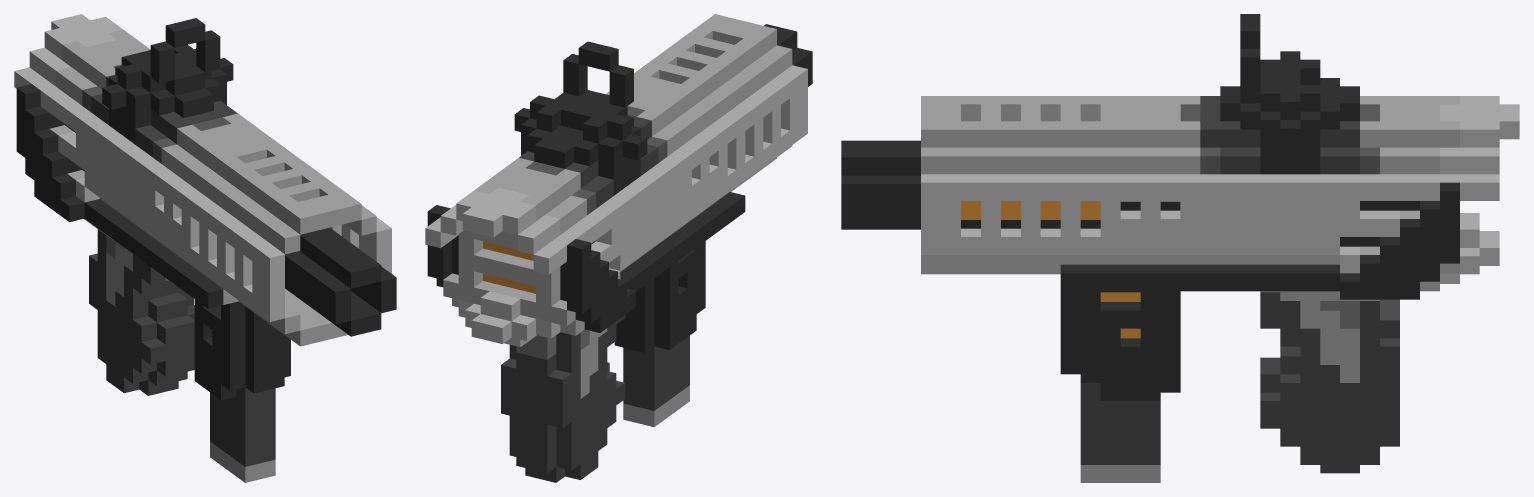
File: Pistol.obj
3 views of the same model, side by side, from view 1: azimuth 30°, elevation 25°; view 2: azimuth 150°, elevation 25°; view 3: azimuth 270°, elevation 25° (orthographic). The views are drawn at different scales.
Bounding box in the file's own units: 1 × 2.5 × 3.4.
Materials: 1 (1 with a texture image).
